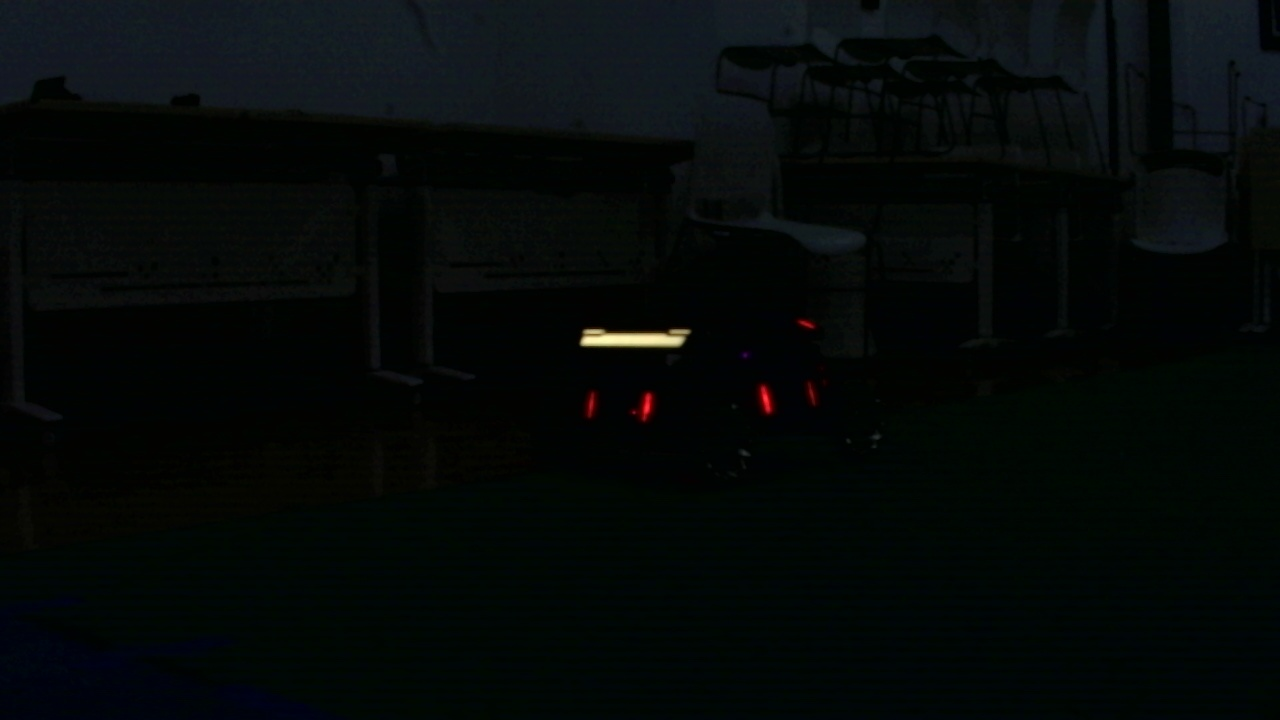lamp: (755, 381, 775, 414), (641, 387, 653, 421)
pair1: (586, 387, 652, 417), (588, 391, 600, 417)
